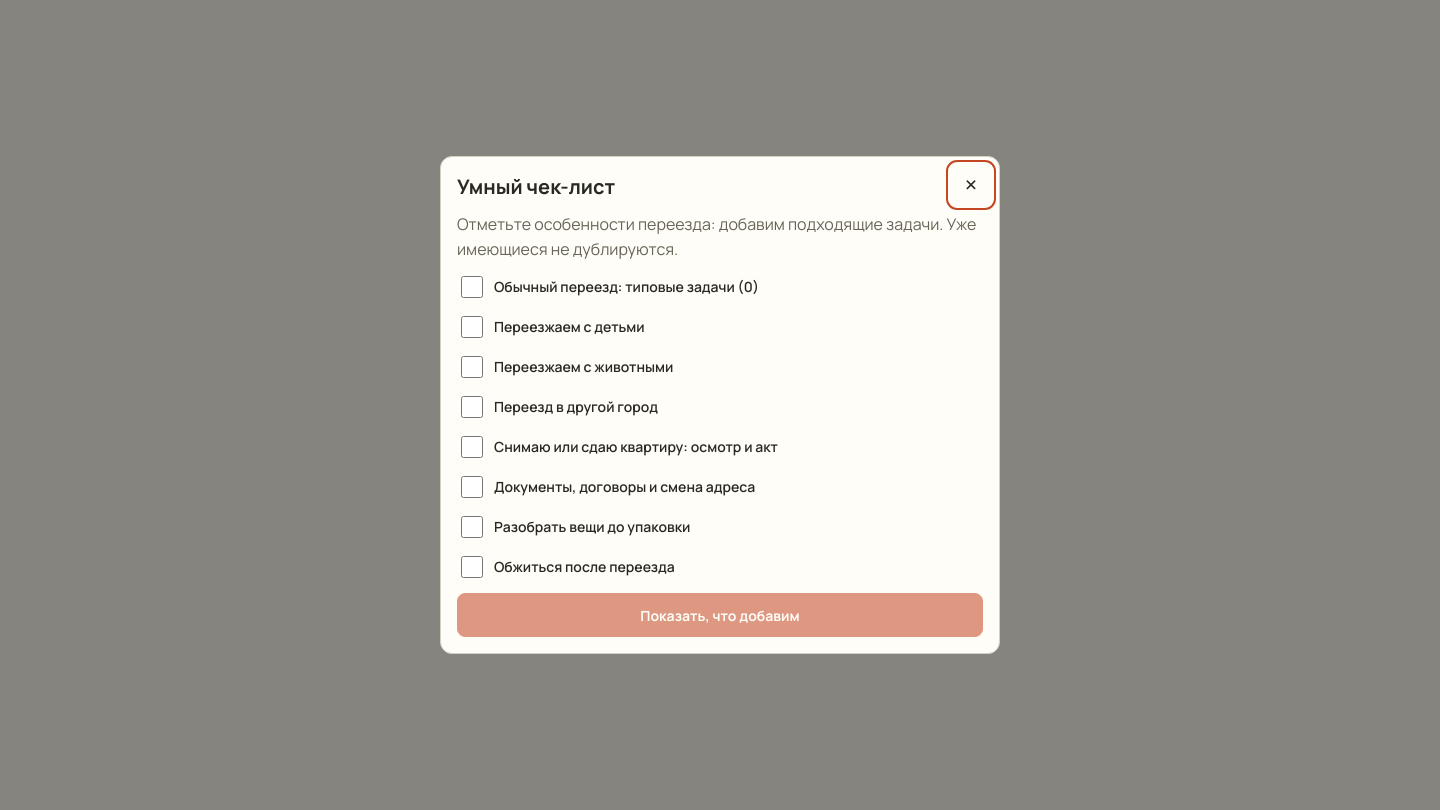
Test: показывает и сохраняет рекомендации первого дня, даже если новых задач нет
The width and height of the screenshot is (1440, 810).
What coordinates should you click on to do the following:
click the checkbox labelled "Переезжаем с детьми"
I would click on:
 (472, 327)
Its box is 461,316 -> 483,338.
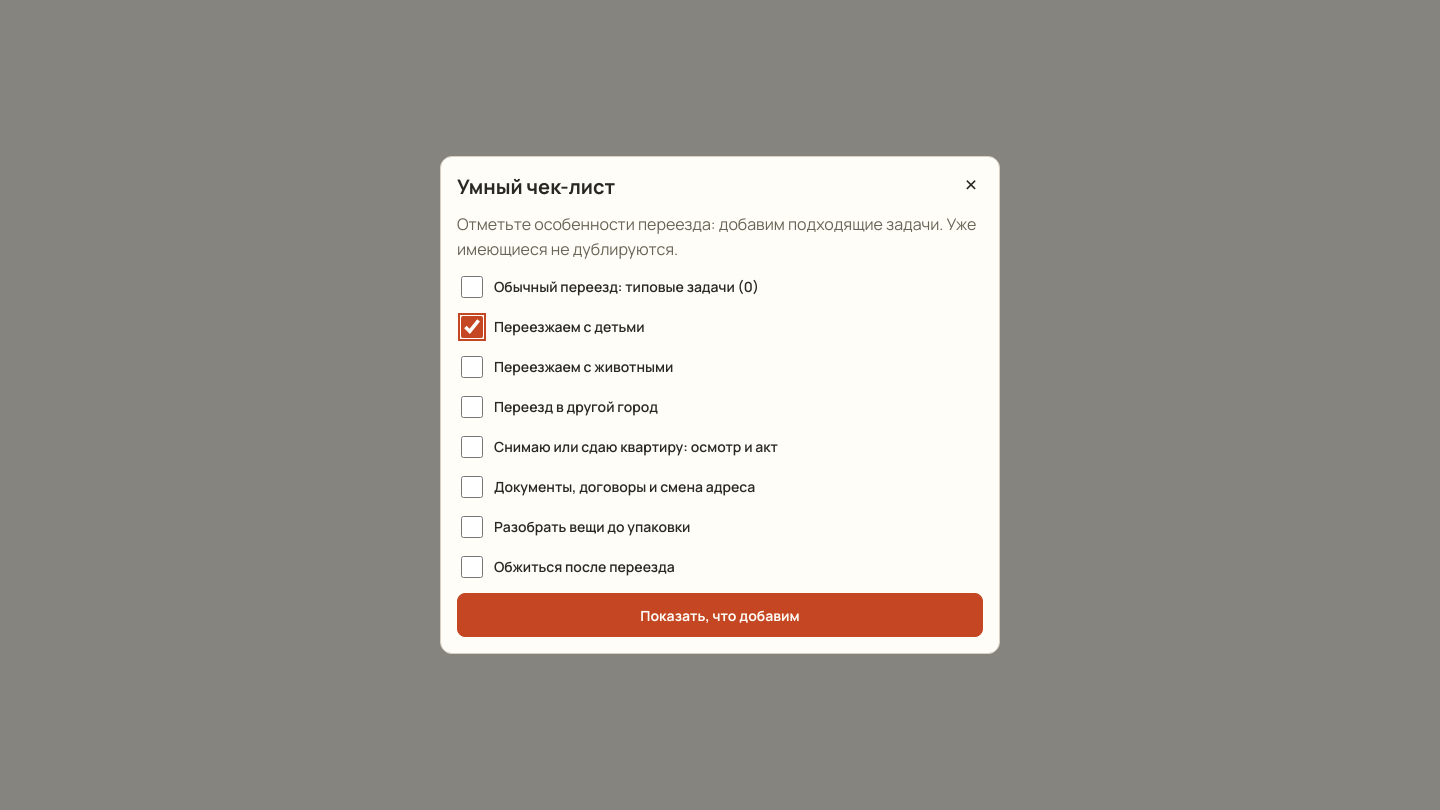
What coordinates should you click on to do the following:
click the button "Показать, что добавим"
I would click on:
 (720, 615)
Its box is 457,593 -> 983,637.
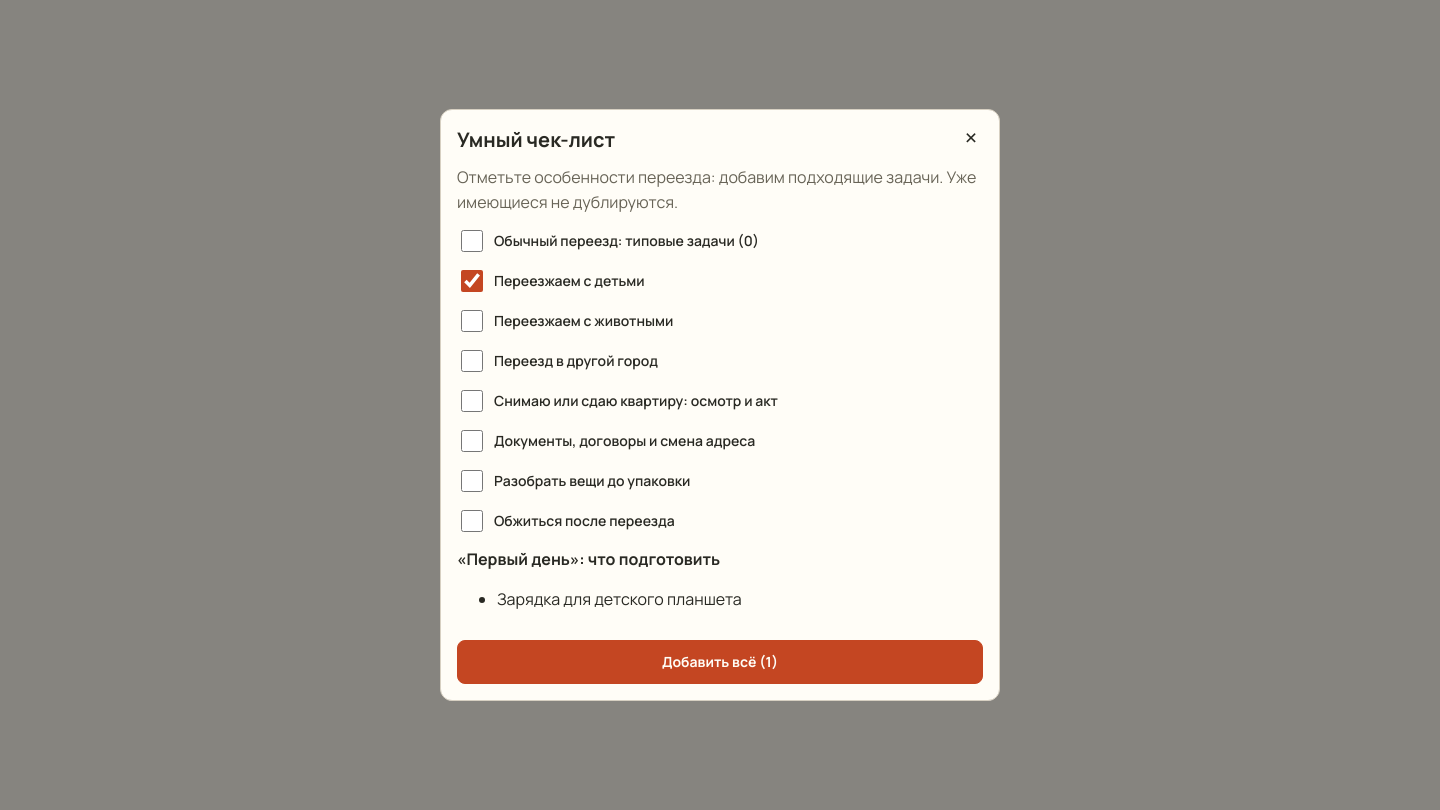
Expected: the list item "Зарядка для детского планшета" is shown, 497,588 -> 742,610
What coordinates should you click on to do the following:
click the button "Добавить всё (1)"
I would click on:
 (720, 662)
Its box is 457,640 -> 983,684.
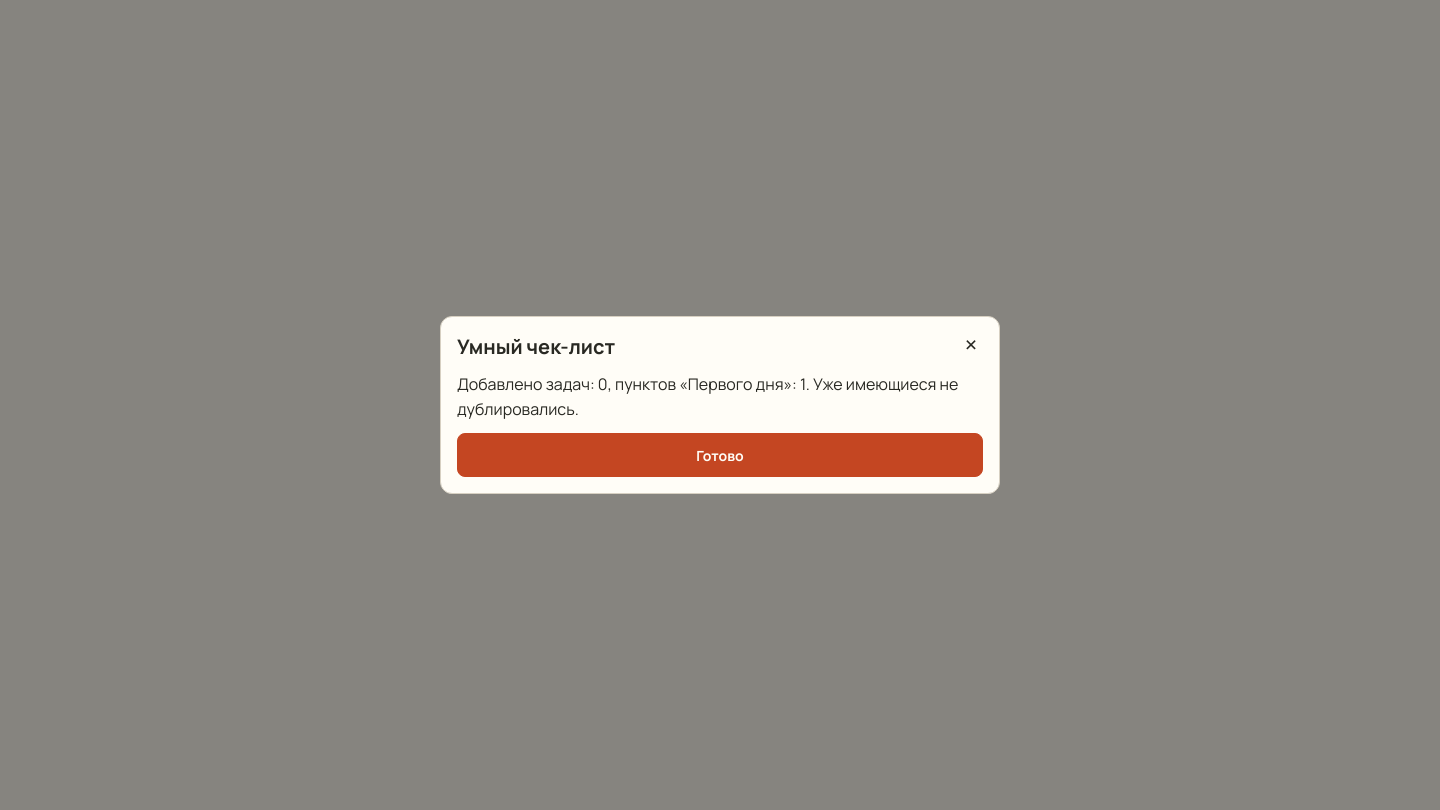
Expected: the text "пунктов «Первого дня»: 1" is shown, 457,373 -> 958,420
